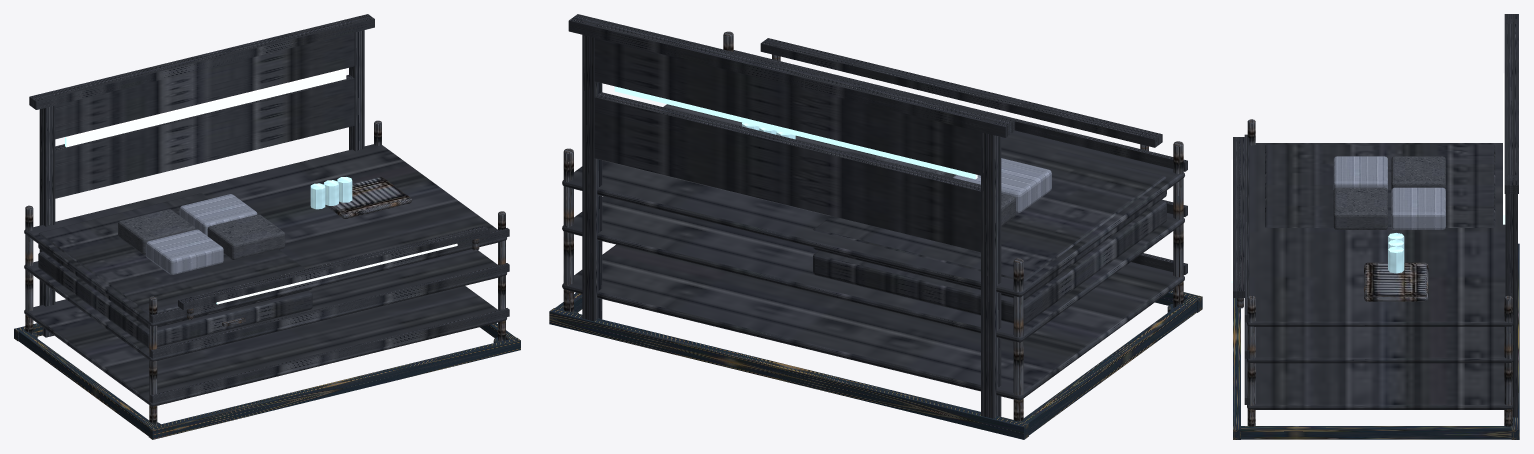
File: med_supplycart.glb
3 renders of one model, left to right at view 1: azimuth 30°, elevation 25°; view 2: azimuth 150°, elevation 25°; view 3: azimuth 270°, elevation 25°, orthographic. The views are drawn at different scales.
Parts seen in each view (by area): view 1: sight_shell, shelf2, shelf0, drawer1, shelf1, drawer0, shelltoe0, lip1, lip0, sightglow, shellrim0, box00 (+11 smaller); view 2: sight_shell, shelf0, shelf1, shelf2, drawer1, shelltoe2, drawer0, shellrim2, shelltoes0, lip2, shellrim0, sightglow (+4 smaller); view 3: shelf2, shelf0, drawer1, shelf1, sight_shell, shelltoes2, tray, box11, box10, box01, box00, shellrim0 (+8 smaller).
Part boxes in pixels (x1,y1,x2,y2): sight_shell: (29, 14, 374, 337); shelf2: (24, 144, 506, 326); shelf0: (24, 286, 506, 406); drawer1: (38, 193, 312, 328); shelf1: (24, 249, 506, 361); drawer0: (38, 251, 312, 348); shelltoe0: (148, 338, 520, 439); lip1: (150, 263, 509, 358); lip0: (150, 308, 509, 403); sightglow: (65, 69, 346, 147); shellrim0: (180, 228, 489, 310); box00: (146, 229, 223, 274); sight_shell: (568, 14, 1014, 418); shelf0: (562, 244, 1184, 400); shelf1: (562, 196, 1184, 342); shelf2: (562, 104, 1184, 297); drawer1: (813, 137, 1166, 299); shelltoe2: (549, 308, 1028, 439); drawer0: (813, 200, 1166, 325); shellrim2: (760, 40, 1159, 147); shelltoes0: (1019, 297, 1197, 435); lip2: (733, 50, 1187, 171); shellrim0: (764, 38, 1162, 145); sightglow: (614, 86, 977, 179); shelf2: (1247, 143, 1513, 326); shelf0: (1247, 363, 1513, 409); drawer1: (1265, 144, 1495, 227); shelf1: (1247, 327, 1513, 363); sight_shell: (1504, 14, 1518, 417); shelltoes2: (1241, 426, 1511, 439); tray: (1364, 262, 1428, 301); box11: (1391, 187, 1445, 229); box10: (1333, 187, 1387, 229); box01: (1391, 156, 1445, 190); box00: (1333, 156, 1387, 189); shellrim0: (1233, 137, 1240, 297).
Bounding box in the file's own units: 2.74 × 1.7 × 1.8.
9 materials, 8 textured.
